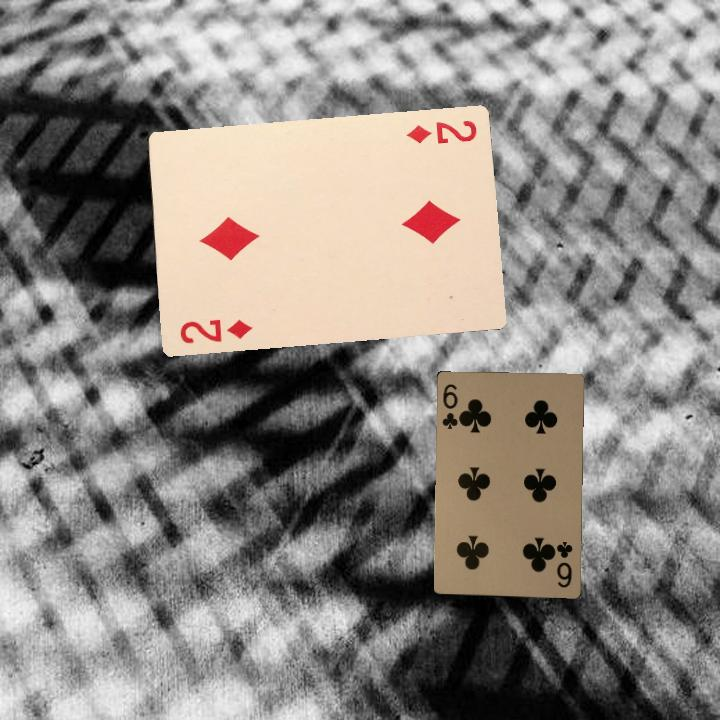2d: (175, 315, 253, 346), (402, 116, 480, 147)
6c: (438, 380, 465, 432), (551, 538, 575, 590)
